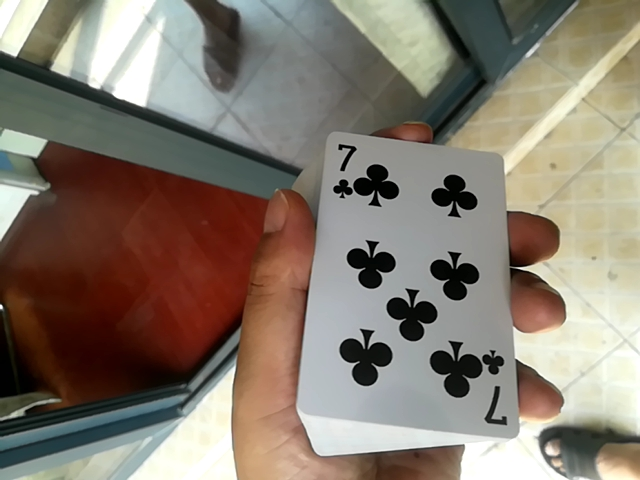mh 7: (296, 128, 516, 449)
